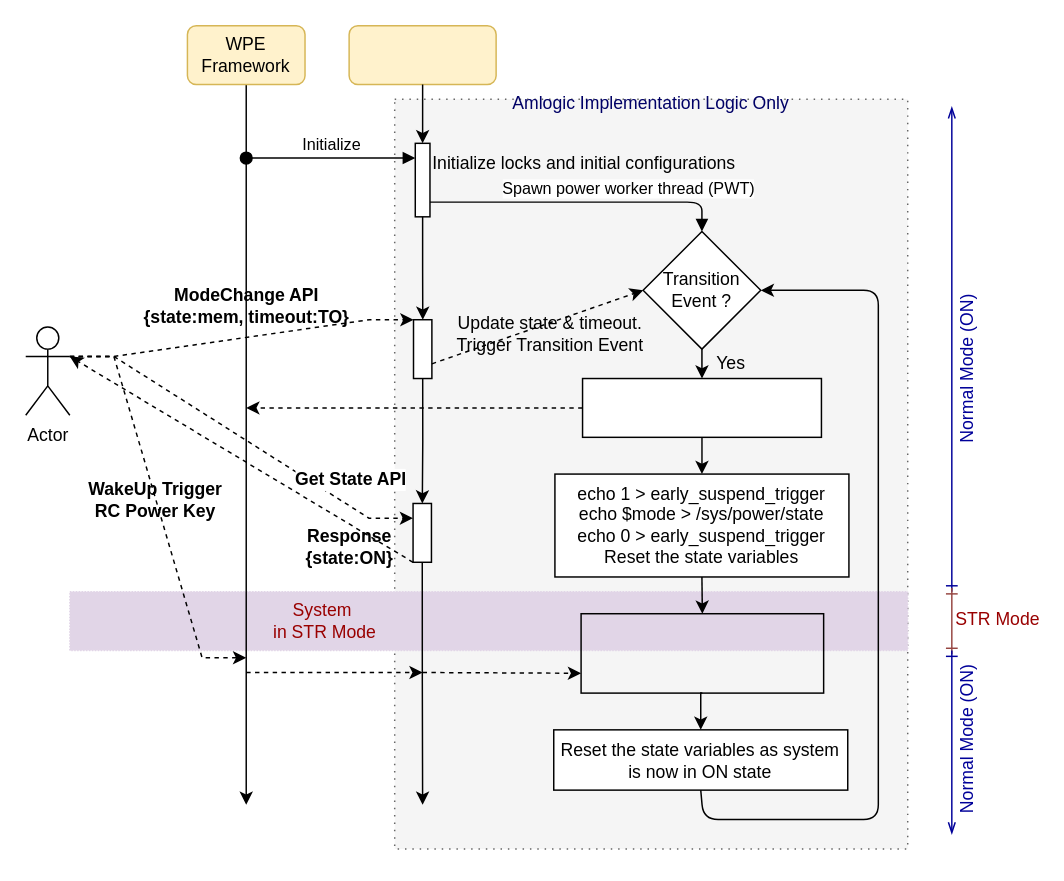
The diagram is 1064 pixels wide and 881 high, and some of its shapes have lost their labels. Here are the shapes that lost their labels. From the top down, the centre of each, then its label:
At (422,54): "Power Plugin".
At (701,407): "Send JSONRPC STR Event SleepMs(TO*1000)".
At (702,652): "SleepMs(80) Send JSONRPC ON Event".
